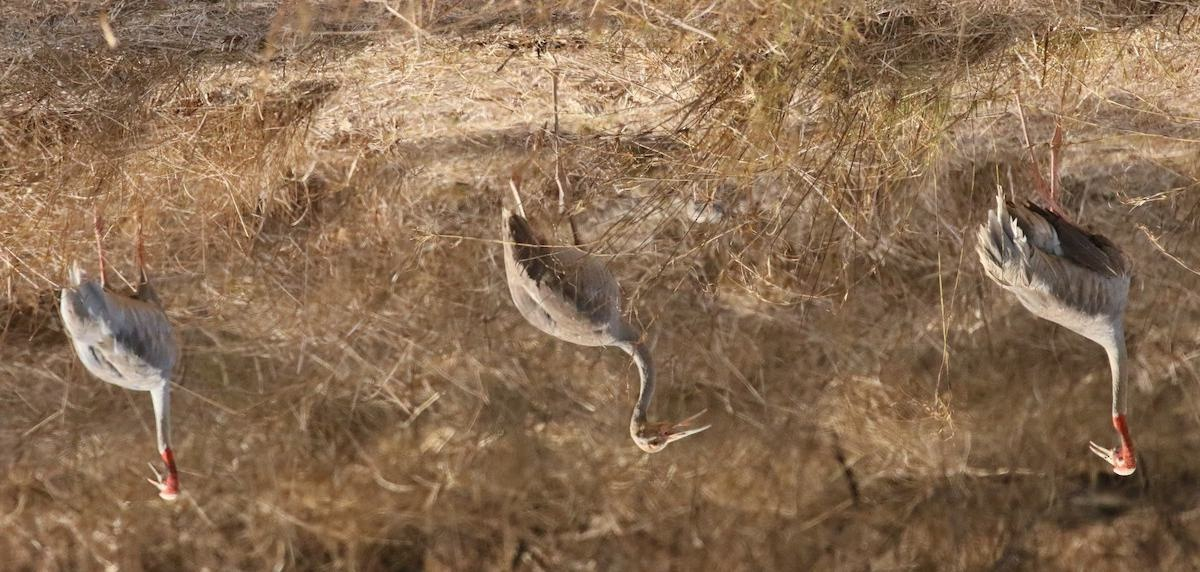crane: (490, 168, 714, 469), (976, 169, 1170, 503), (58, 248, 206, 514)
